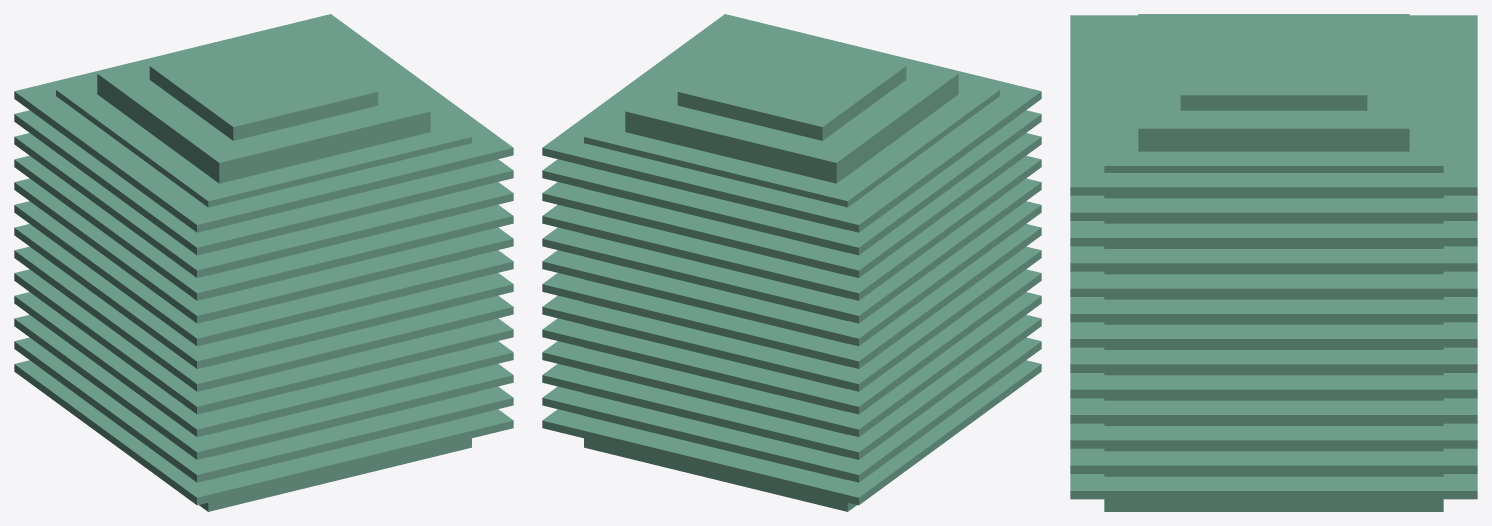
The model's file is residential.glb.
3 renders of one model, left to right at view 1: azimuth 30°, elevation 25°; view 2: azimuth 150°, elevation 25°; view 3: azimuth 270°, elevation 25°, orthographic. The views are drawn at different scales.
Parts seen in each view (by area): view 1: residential; view 2: residential; view 3: residential.
Part boxes in pixels (<box>): residential: <box>14,14,513,511</box>; residential: <box>542,14,1041,511</box>; residential: <box>1070,14,1477,511</box>.
Bounding box in the file's own units: 0.96 × 1 × 0.96.
